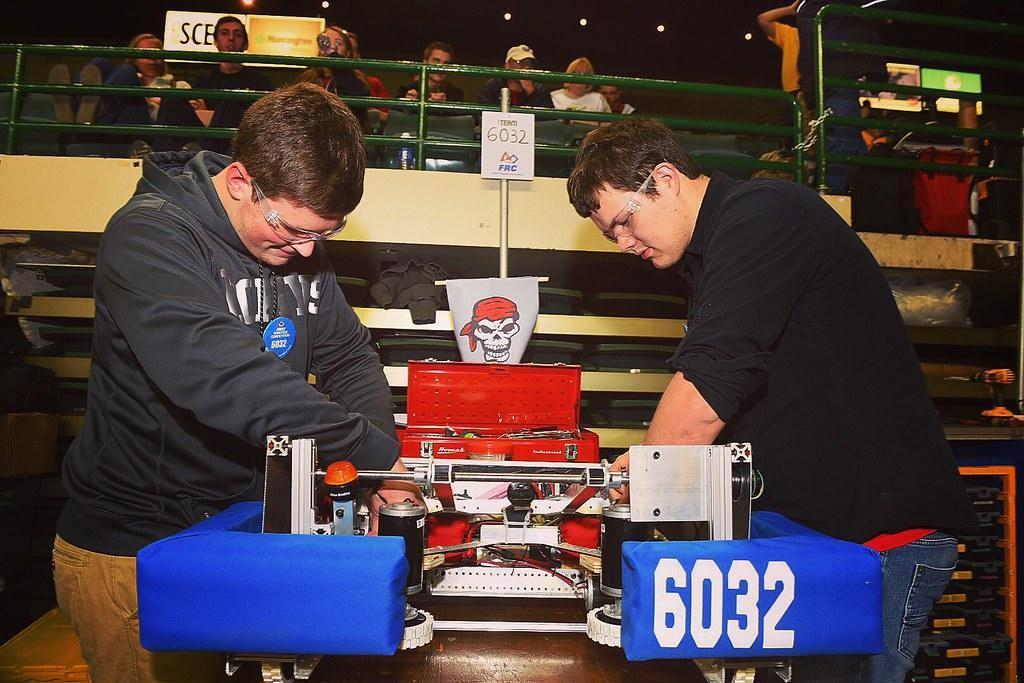robot: (126, 273, 893, 683)
